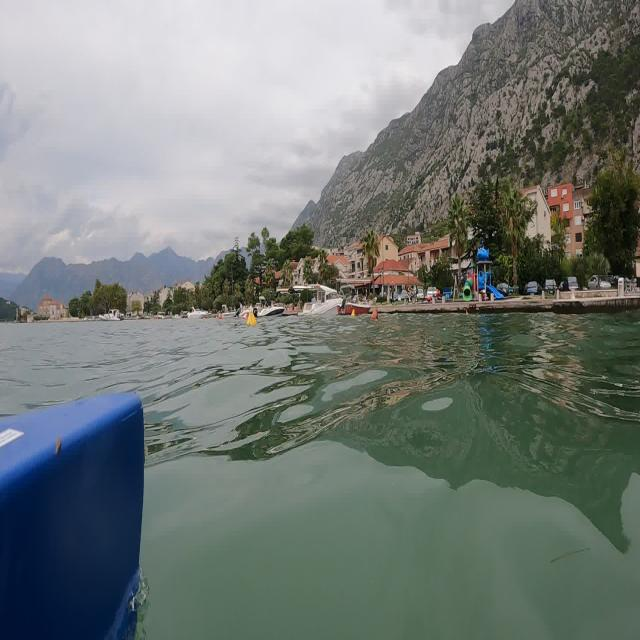buoy: (243, 300, 260, 333)
